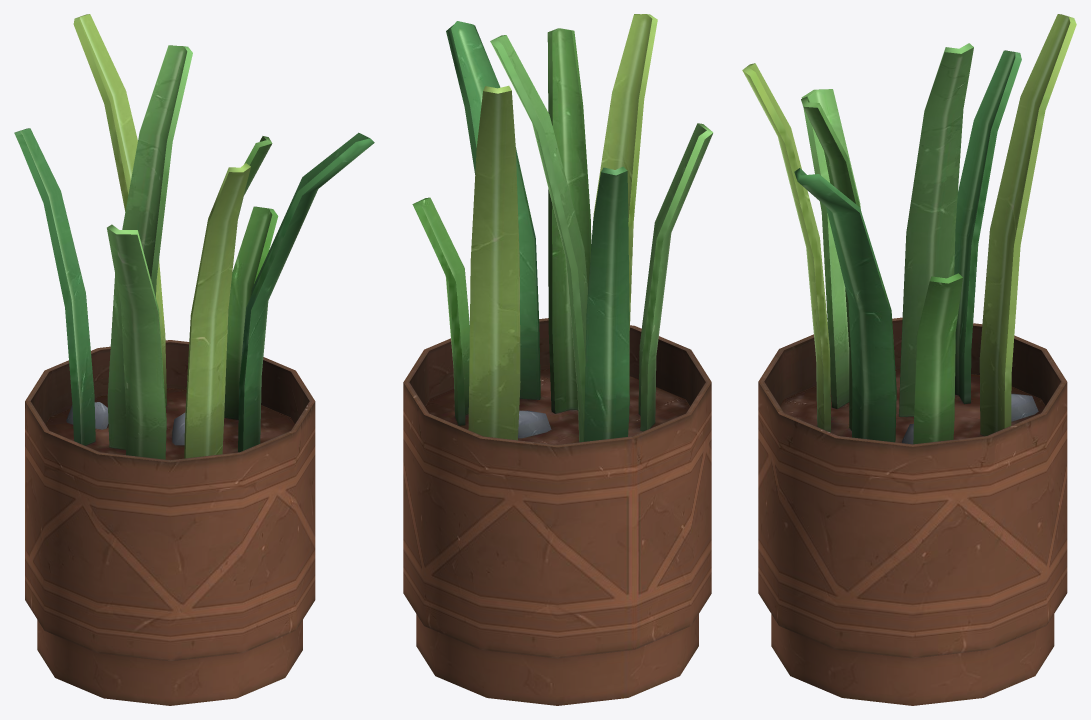
File: Plant 3.obj
3 renders of one model, left to right at view 1: azimuth 30°, elevation 25°; view 2: azimuth 150°, elevation 25°; view 3: azimuth 270°, elevation 25°, orthographic. The views are drawn at different scales.
Parts seen in each view (by area): view 1: Plant_3; view 2: Plant_3; view 3: Plant_3.
Part boxes in pixels (<box>): Plant_3: <box>14,14,374,705</box>; Plant_3: <box>403,14,713,705</box>; Plant_3: <box>742,14,1076,705</box>.
Bounding box in the file's own units: 1.16 × 2.35 × 1.15.
